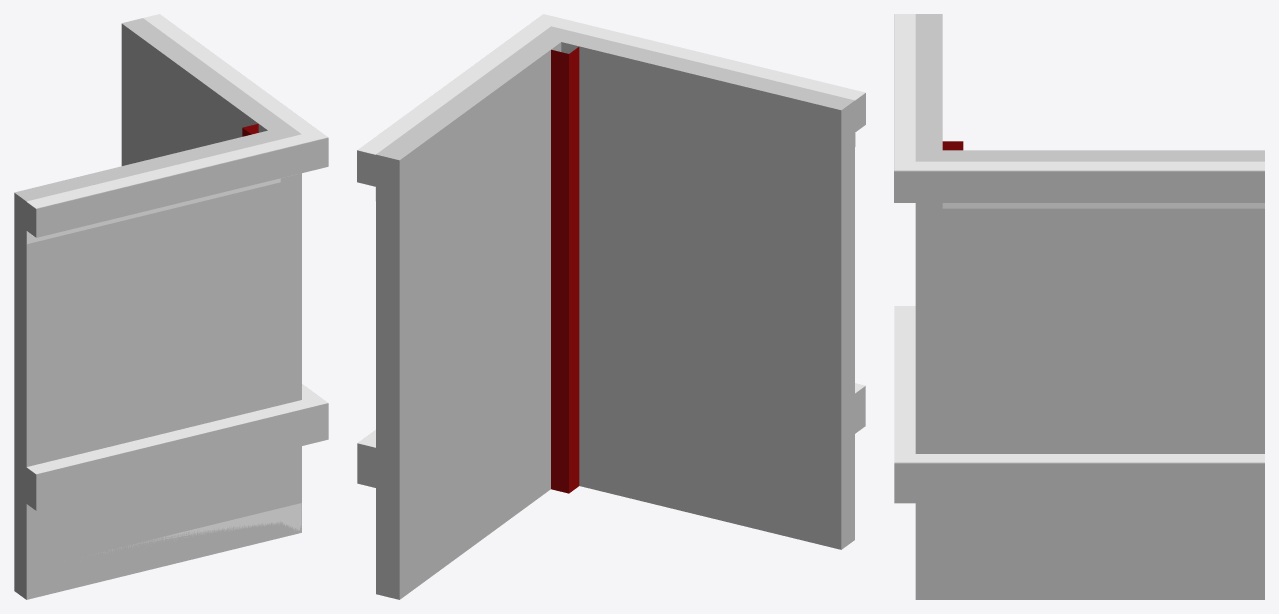
Rendered from Wall_A_Exterior_03_Corner.fbx.
The picture shows the model from 3 angles, left to right: view 1: azimuth 30°, elevation 25°; view 2: azimuth 150°, elevation 25°; view 3: azimuth 270°, elevation 25°; orthographic projection. The views are drawn at different scales.
Visible parts, largest first — view 1: C_Wall_A_Exterior_03_Corner, Wall_A_Exterior_03_Corner; view 2: C_Wall_A_Exterior_03_Corner, Wall_A_Exterior_03_Corner; view 3: C_Wall_A_Exterior_03_Corner, Wall_A_Exterior_03_Corner.
Boxes of the visible parts, x1,y1,x2,y2 form: C_Wall_A_Exterior_03_Corner: [14, 18, 328, 599]; Wall_A_Exterior_03_Corner: [27, 14, 327, 553]; C_Wall_A_Exterior_03_Corner: [357, 26, 865, 599]; Wall_A_Exterior_03_Corner: [358, 14, 865, 493]; C_Wall_A_Exterior_03_Corner: [894, 14, 1264, 599]; Wall_A_Exterior_03_Corner: [894, 14, 1264, 462].
Size of the model in its own units: 2.3 by 3 by 2.3.
